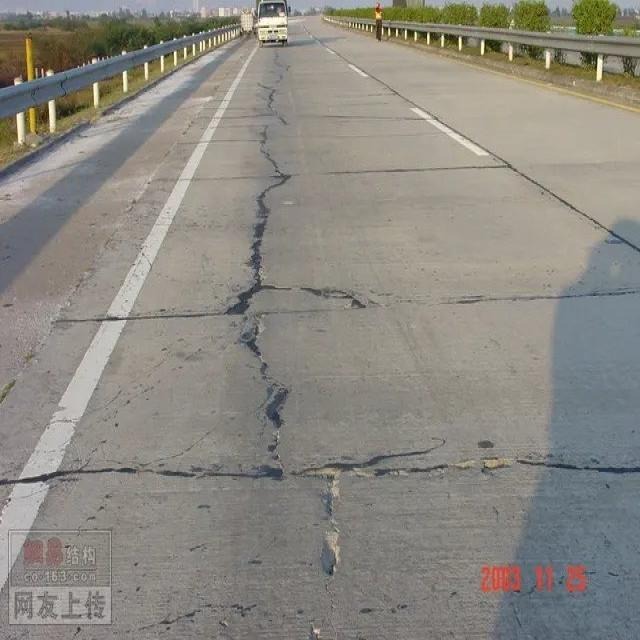Pothole: (228, 47, 313, 489)
